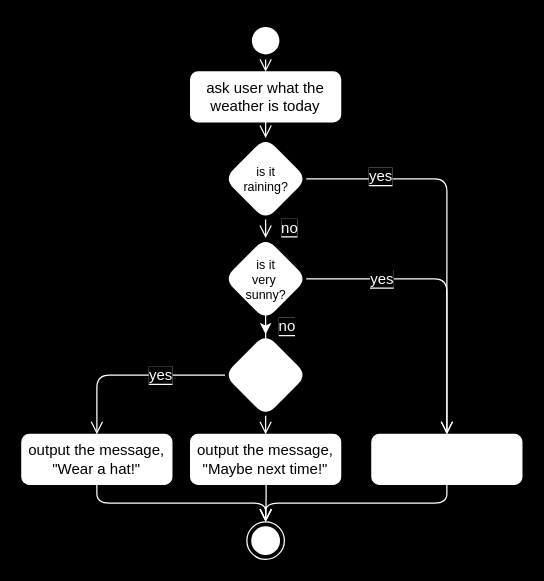
Image size: 544x581. Some labels were removed from this diagram. Here are the shapes that lost their labels. From the top down, the centre of each, then its label:
pixel 265 374: is it snowing?
pixel 446 458: output the message, "Take an umbrella!"
